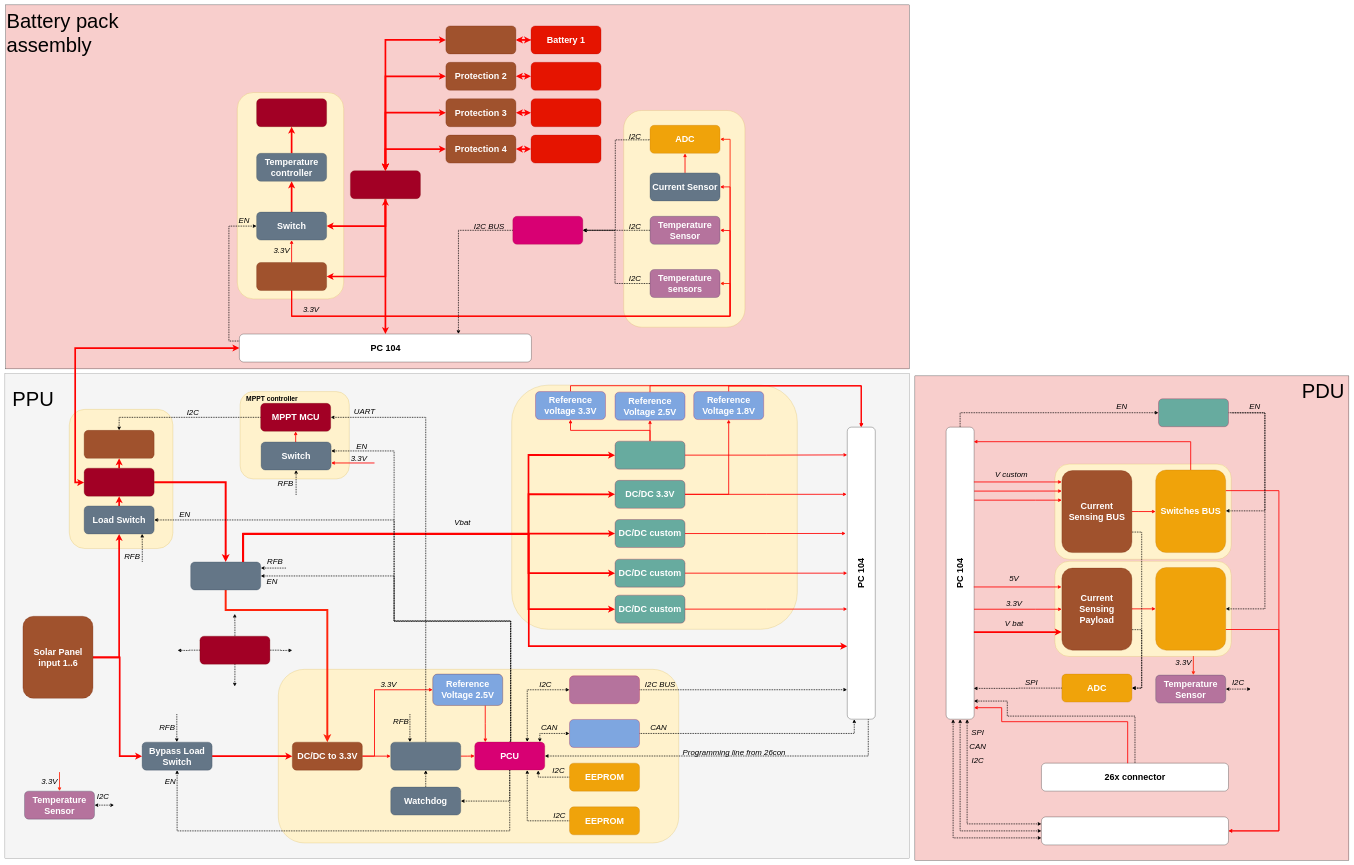
The diagram is 1354 pixels wide and 865 high, and some of its shapes have lost their labels. The box of each missing label's shape, as (x1, y1, x2, y2) in pixels:
Balancing: (350, 170, 420, 199)
Battery 2: (531, 62, 601, 90)
Battery 3: (531, 98, 601, 127)
Battery 4: (531, 135, 601, 163)
Battery Charger: (84, 430, 154, 458)
CAN Transeiver: (569, 719, 640, 747)
Connectors Set: (1041, 817, 1229, 845)
DC/DC 5V: (615, 441, 685, 469)
HEATER: (256, 98, 327, 127)
I2C Isolator: (569, 676, 640, 704)
Isolator: (513, 216, 583, 244)
LDO: (256, 262, 327, 290)
Main System Load Switch: (190, 562, 261, 590)
PCU Load Switch: (390, 742, 461, 770)
Protection 1: (446, 26, 516, 54)
RBF: (200, 636, 270, 664)
Shift register: (1158, 398, 1229, 427)
Switches Payload: (1155, 567, 1226, 650)
System Power Selector: (84, 468, 154, 496)
